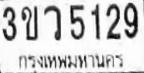1: (90, 3, 99, 39)
2: (105, 3, 120, 38)
3: (0, 5, 16, 40)
5: (69, 4, 84, 39)
9: (123, 2, 137, 38)
A02: (20, 5, 37, 40)
A37: (43, 4, 60, 40)
BKK: (16, 51, 125, 72)
